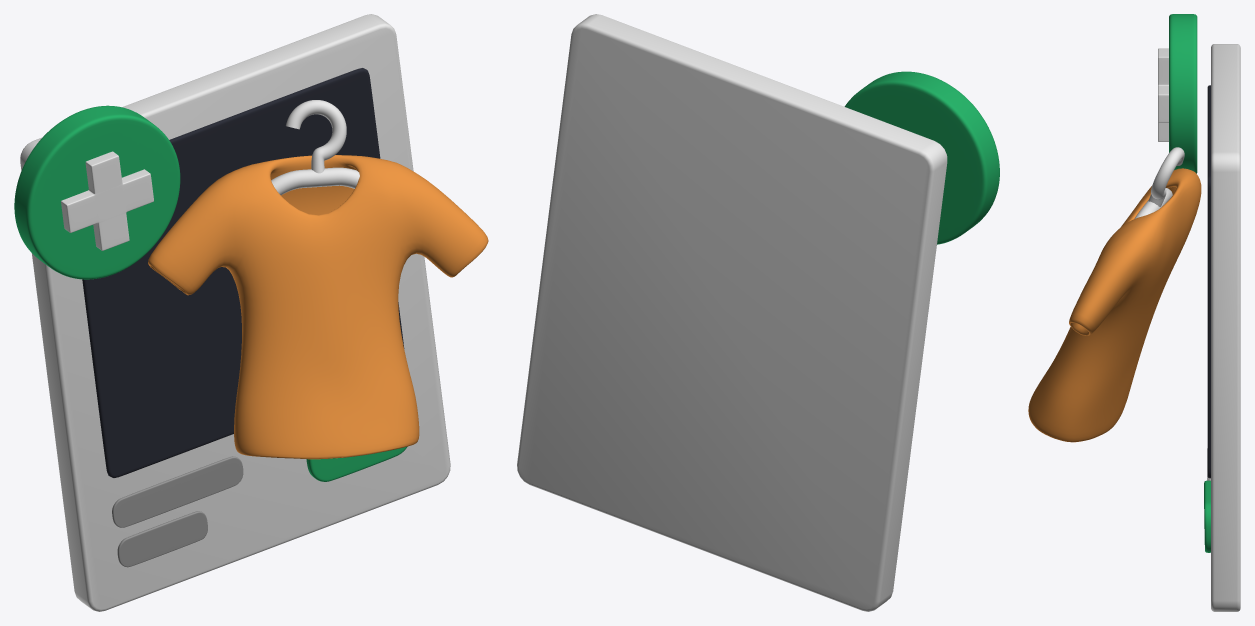
The model's file is add-product-animated-3d-icon-260779874372.glb.
3 views of the same model, side by side, from view 1: azimuth 30°, elevation 25°; view 2: azimuth 150°, elevation 25°; view 3: azimuth 270°, elevation 25° (orthographic). The views are drawn at different scales.
Parts seen in each view (by area): view 1: Shirt.002, Base.001, Thumbnail, Circle, Text, Add, Hanger, Button; view 2: Base.001, Circle; view 3: Shirt.002, Base.001, Circle, Thumbnail, Hanger, Add, Button.
Part boxes in pixels (x1=…): Shirt.002: x1=148, y1=155, x2=488, y2=459; Base.001: x1=20, y1=14, x2=450, y2=611; Thumbnail: x1=82, y1=68, x2=404, y2=477; Circle: x1=14, y1=105, x2=180, y2=279; Text: x1=112, y1=456, x2=243, y2=567; Add: x1=61, y1=151, x2=153, y2=250; Hanger: x1=271, y1=100, x2=359, y2=195; Button: x1=306, y1=446, x2=407, y2=481; Base.001: x1=517, y1=14, x2=947, y2=611; Circle: x1=844, y1=71, x2=999, y2=244; Shirt.002: x1=1028, y1=168, x2=1201, y2=442; Base.001: x1=1211, y1=44, x2=1240, y2=611; Circle: x1=1169, y1=14, x2=1197, y2=173; Thumbnail: x1=1207, y1=85, x2=1210, y2=478; Hanger: x1=1134, y1=147, x2=1184, y2=218; Add: x1=1158, y1=48, x2=1168, y2=141; Button: x1=1204, y1=480, x2=1210, y2=552.
Size of the model in its own units: 1.84 by 2.05 by 0.8306.
